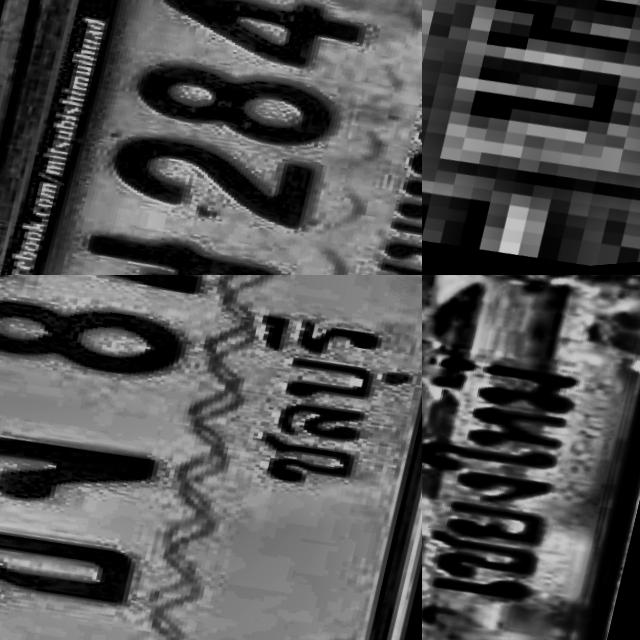license-plate: (0, 275, 422, 640), (0, 0, 422, 275), (422, 275, 640, 640), (422, 0, 640, 275)
